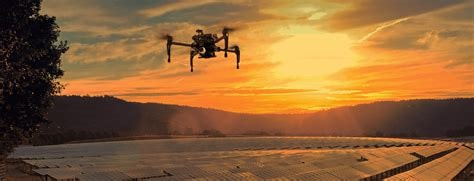drone: (155, 24, 259, 76)
